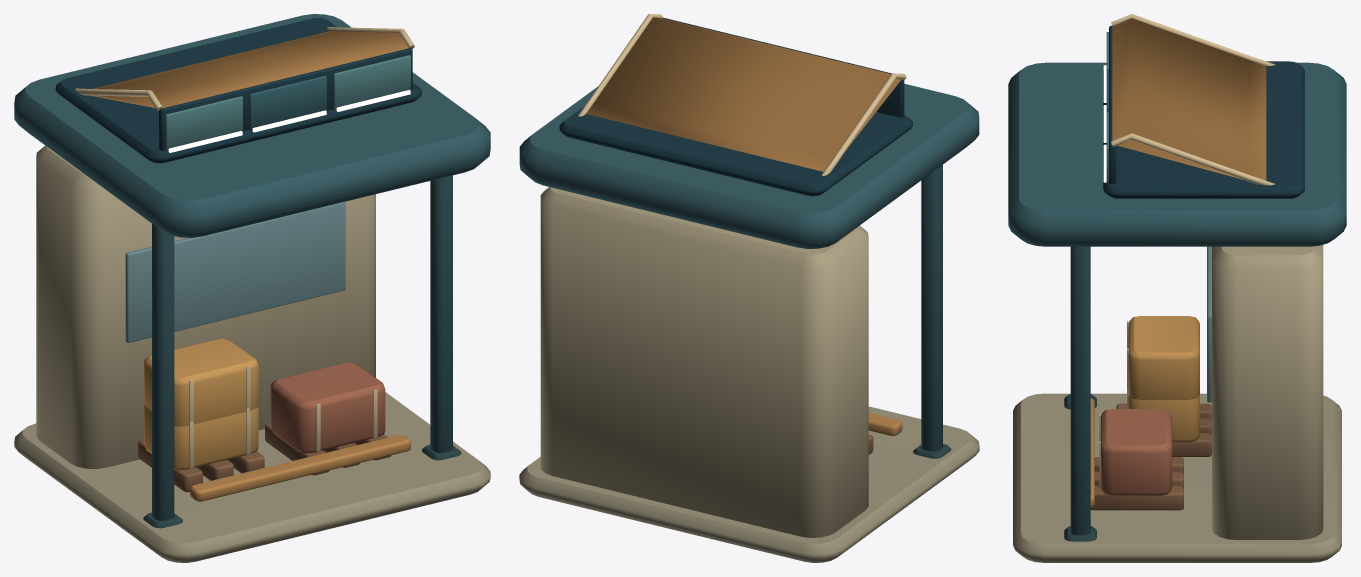
Rendered from annex_truck_4.glb.
3 views of the same model, side by side, from view 1: azimuth 30°, elevation 25°; view 2: azimuth 150°, elevation 25°; view 3: azimuth 270°, elevation 25° (orthographic). The views are drawn at different scales.
Visible parts, largest first — view 1: AnnexTruck4; view 2: AnnexTruck4; view 3: AnnexTruck4.
Part boxes in pixels (x1,y1,x2,y2): AnnexTruck4: (14,14,490,562); AnnexTruck4: (519,14,979,562); AnnexTruck4: (1008,14,1346,562).
Bounding box in the file's own units: 2.8 × 3.44 × 2.55.
